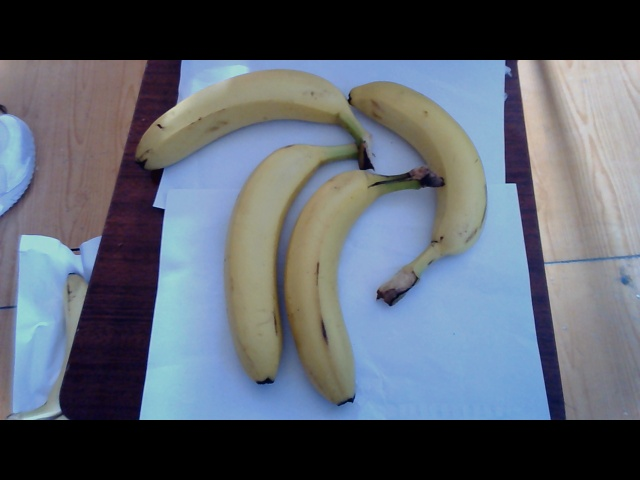banana: (231, 151, 373, 404), (368, 80, 505, 294), (127, 67, 371, 160)
